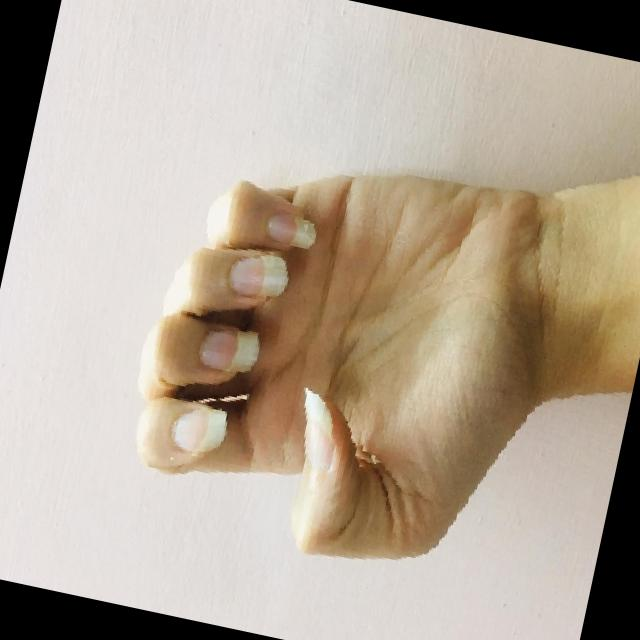Nail: (228, 253, 288, 297), (171, 406, 227, 453), (199, 329, 259, 372), (304, 390, 334, 469), (267, 211, 316, 248)
